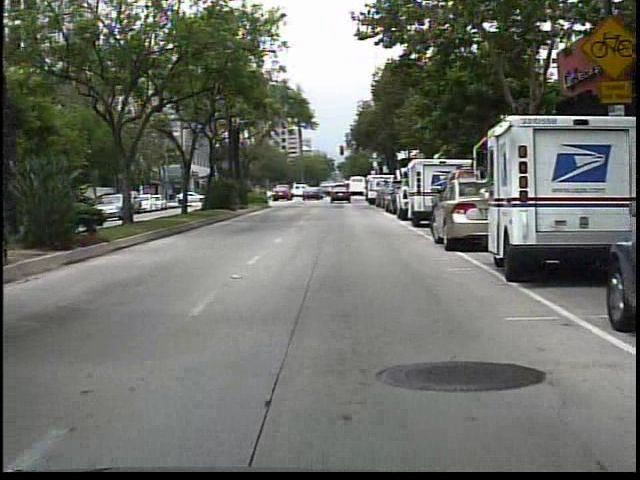person: (337, 183, 350, 203)
